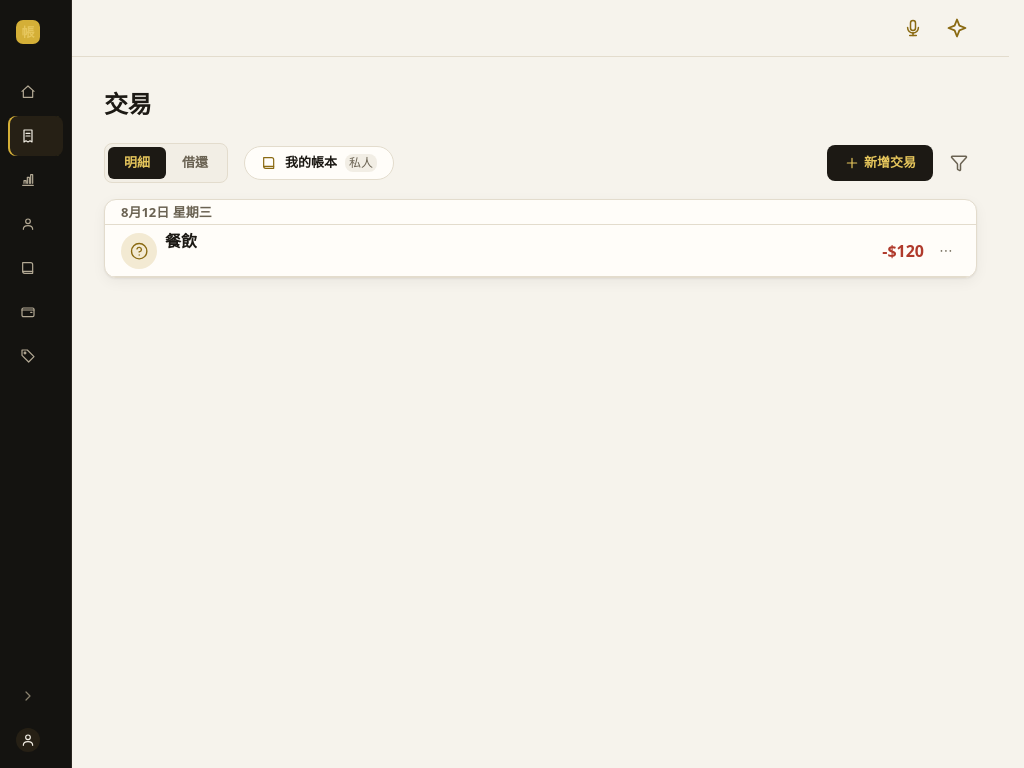
Test case: Editing and deleting a transaction › prefills the dialog with the transaction
The image size is (1024, 768).
Click the button with aria-label "編輯" at (181, 241), box [165, 225, 804, 276]
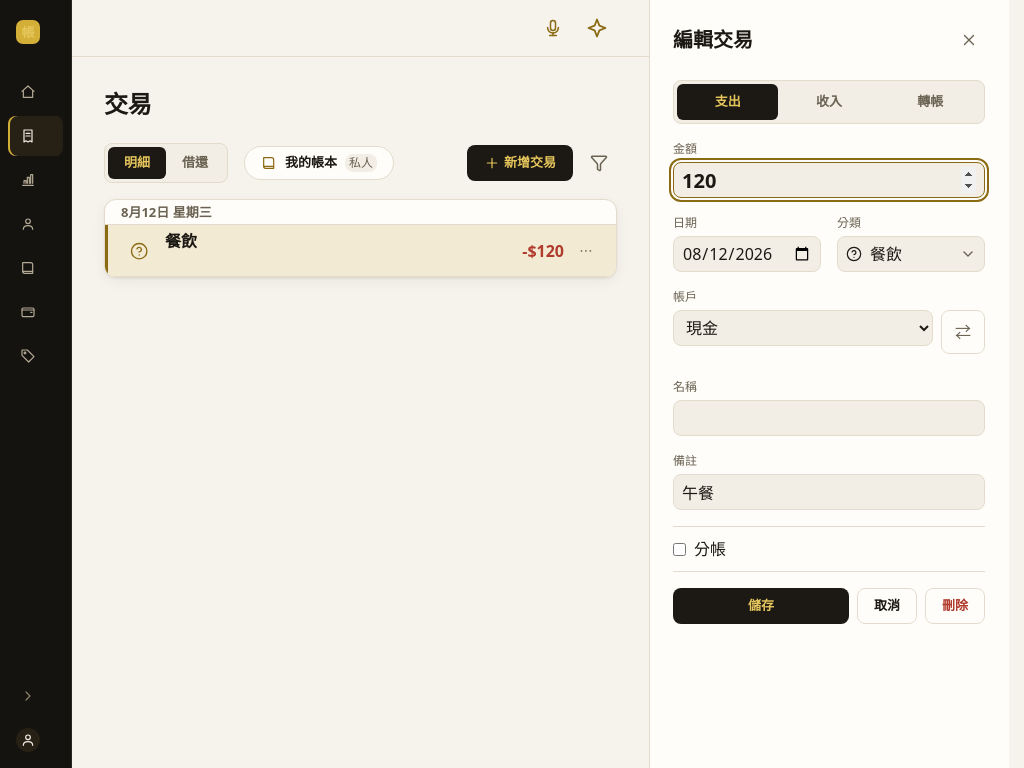
Expected: the number field labelled "金額" holds "120", [673, 162, 985, 198]
Expected: the date field labelled "日期" holds "2026-08-12", [673, 236, 821, 272]
Expected: the field labelled "備註" holds "午餐", [673, 474, 985, 510]
